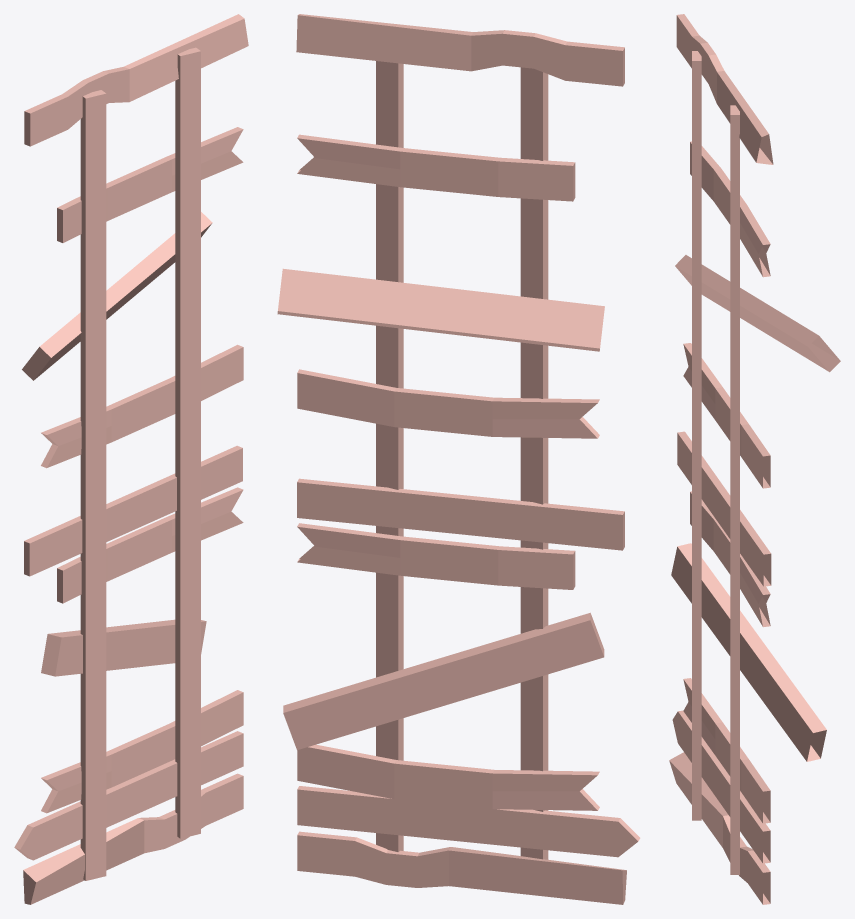
Rendered from Mega_Asset_s_Pack_Cube_232.FBX.
3 views of the same model, side by side, from view 1: azimuth 30°, elevation 25°; view 2: azimuth 150°, elevation 25°; view 3: azimuth 270°, elevation 25° (orthographic). The views are drawn at different scales.
Parts seen in each view (by area): view 1: Mega_Asset_s_Pack_Cube_232; view 2: Mega_Asset_s_Pack_Cube_232; view 3: Mega_Asset_s_Pack_Cube_232.
Boxes of the visible parts, bbox=[...] form: Mega_Asset_s_Pack_Cube_232: bbox=[14, 14, 248, 904]; Mega_Asset_s_Pack_Cube_232: bbox=[277, 14, 640, 904]; Mega_Asset_s_Pack_Cube_232: bbox=[669, 14, 840, 904].
Size of what is drawn, in the model's own units: 167 by 93.25 by 466.
